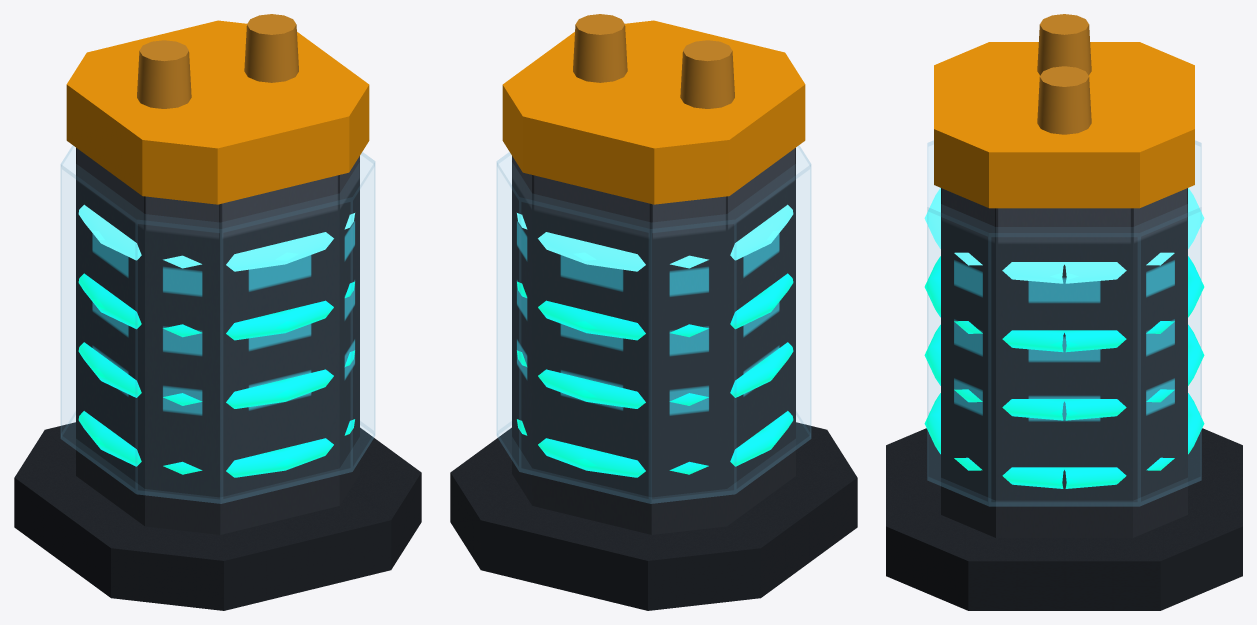
The model's file is prop_pickup_battery_charge.glb.
3 renders of one model, left to right at view 1: azimuth 30°, elevation 25°; view 2: azimuth 150°, elevation 25°; view 3: azimuth 270°, elevation 25°, orthographic.
Visible parts, largest first — view 1: BatteryCharge_Root; view 2: BatteryCharge_Root; view 3: BatteryCharge_Root.
Boxes of the visible parts, box(x1,y1,x2,y2) form: BatteryCharge_Root: box(14, 14, 421, 610); BatteryCharge_Root: box(450, 14, 857, 610); BatteryCharge_Root: box(886, 14, 1242, 610).
Size of the model in its own units: 0.26 by 0.39 by 0.26.
7 materials, 7 textured.
